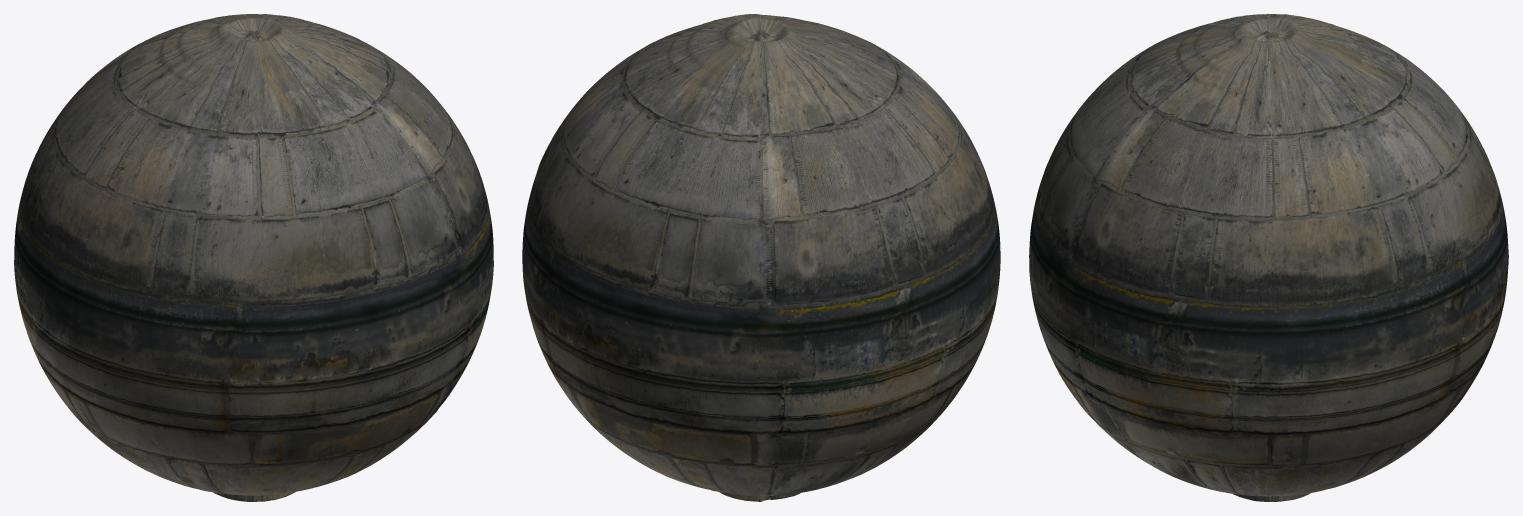
File: large_sandstone_blocks_2k.gltf
3 views of the same model, side by side, from view 1: azimuth 30°, elevation 25°; view 2: azimuth 150°, elevation 25°; view 3: azimuth 270°, elevation 25° (orthographic).
Parts seen in each view (by area): view 1: sphere_gltf; view 2: sphere_gltf; view 3: sphere_gltf.
Boxes of the visible parts, <box> form: sphere_gltf: <box>14,14,493,501</box>; sphere_gltf: <box>522,14,1000,501</box>; sphere_gltf: <box>1029,14,1508,501</box>.
Bounding box in the file's own units: 2.92 × 3.05 × 2.92.
1 material, 1 textured.
